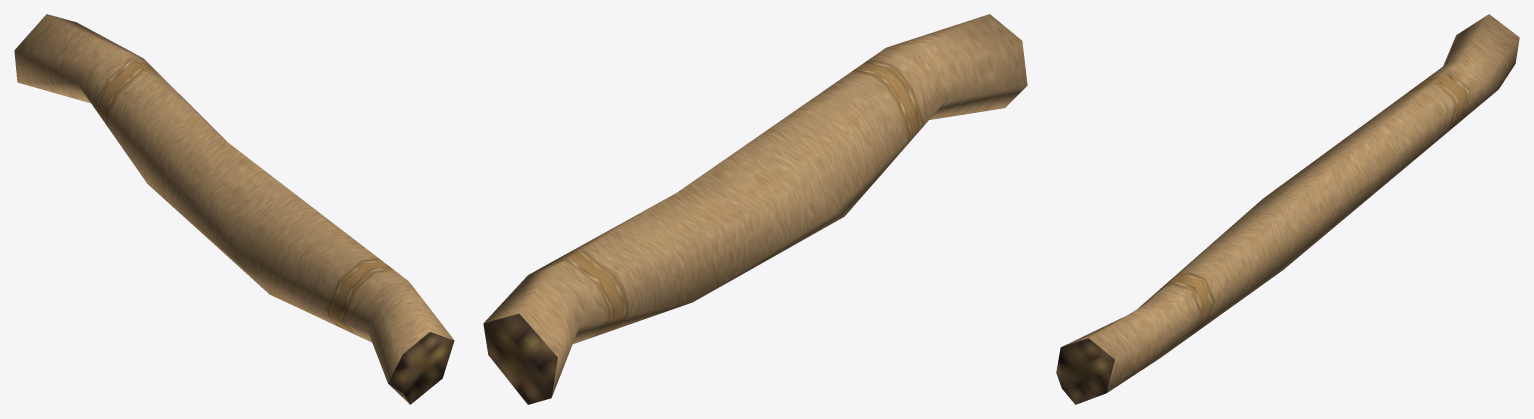
Rendered from tent_reto_fuckedupUVs_rolledupwindow.fbx.
3 renders of one model, left to right at view 1: azimuth 30°, elevation 25°; view 2: azimuth 150°, elevation 25°; view 3: azimuth 330°, elevation 25°, orthographic. The views are drawn at different scales.
Parts seen in each view (by area): view 1: Military_tent.004; view 2: Military_tent.004; view 3: Military_tent.004.
Boxes of the visible parts, x1,y1,x2,y2 form: Military_tent.004: [14, 14, 454, 404]; Military_tent.004: [483, 14, 1027, 404]; Military_tent.004: [1056, 14, 1519, 404].
Size of the model in its own units: 12.16 by 14.34 by 96.26.
1 material, 1 textured.
